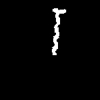half_double_crochet: (52, 9, 65, 54)
